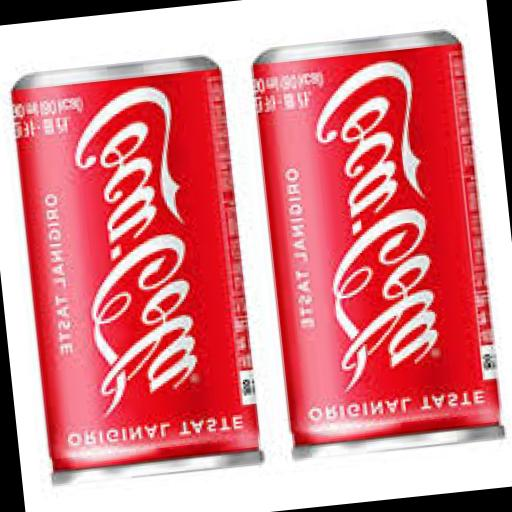Coca: (244, 18, 512, 474), (0, 48, 267, 499)
